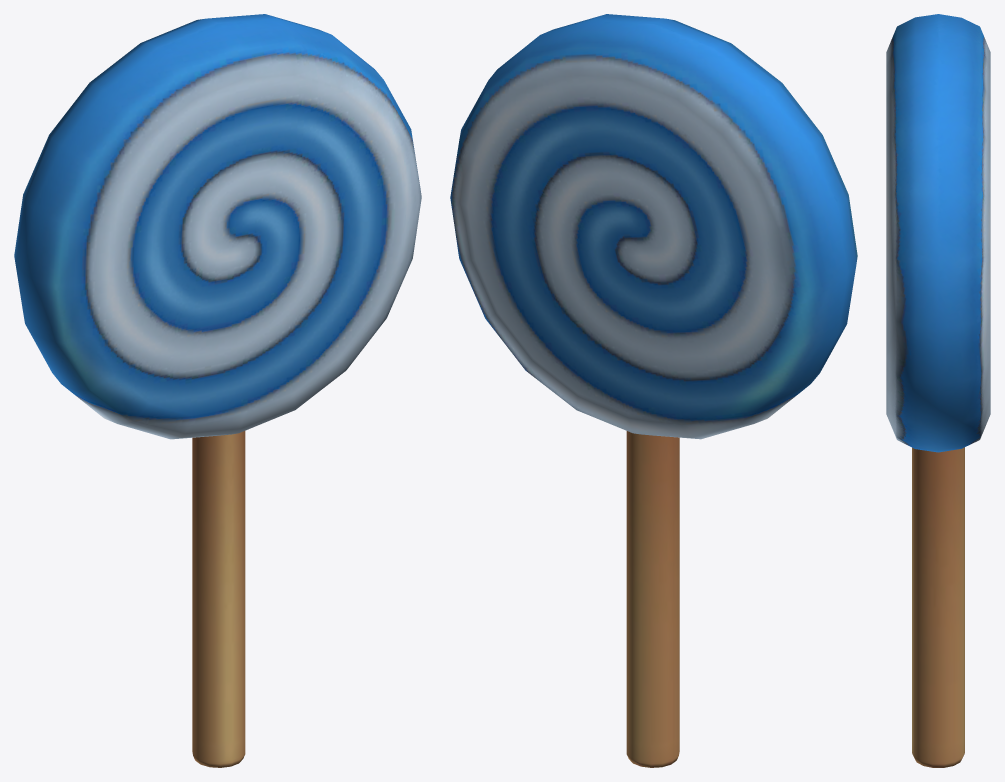
File: 0-candy_blue.fbx
3 renders of one model, left to right at view 1: azimuth 30°, elevation 25°; view 2: azimuth 150°, elevation 25°; view 3: azimuth 270°, elevation 25°, orthographic.
Visible parts, largest first — view 1: 0-candy_blue; view 2: 0-candy_blue; view 3: 0-candy_blue.
Part boxes in pixels (box(x1,y1,x2,y2)): 0-candy_blue: box(14, 14, 421, 767); 0-candy_blue: box(450, 14, 857, 767); 0-candy_blue: box(886, 14, 990, 767).
Bounding box in the file's own units: 51.17 × 92.85 × 12.1.
